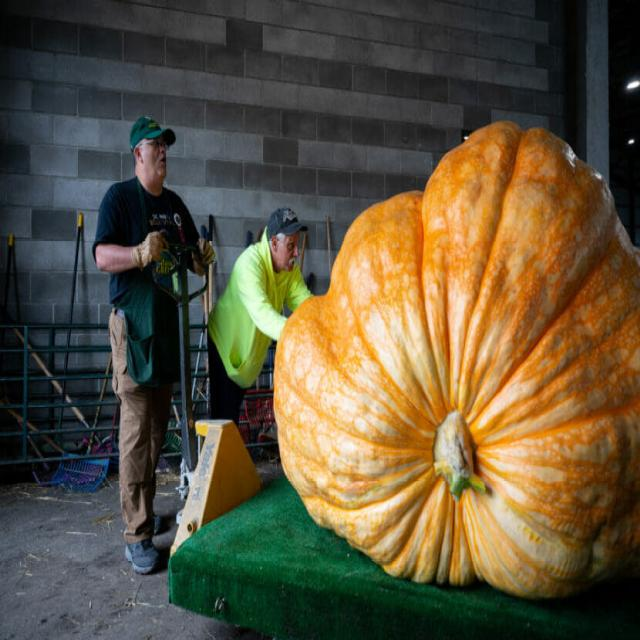pumpkin: (275, 122, 640, 599)
